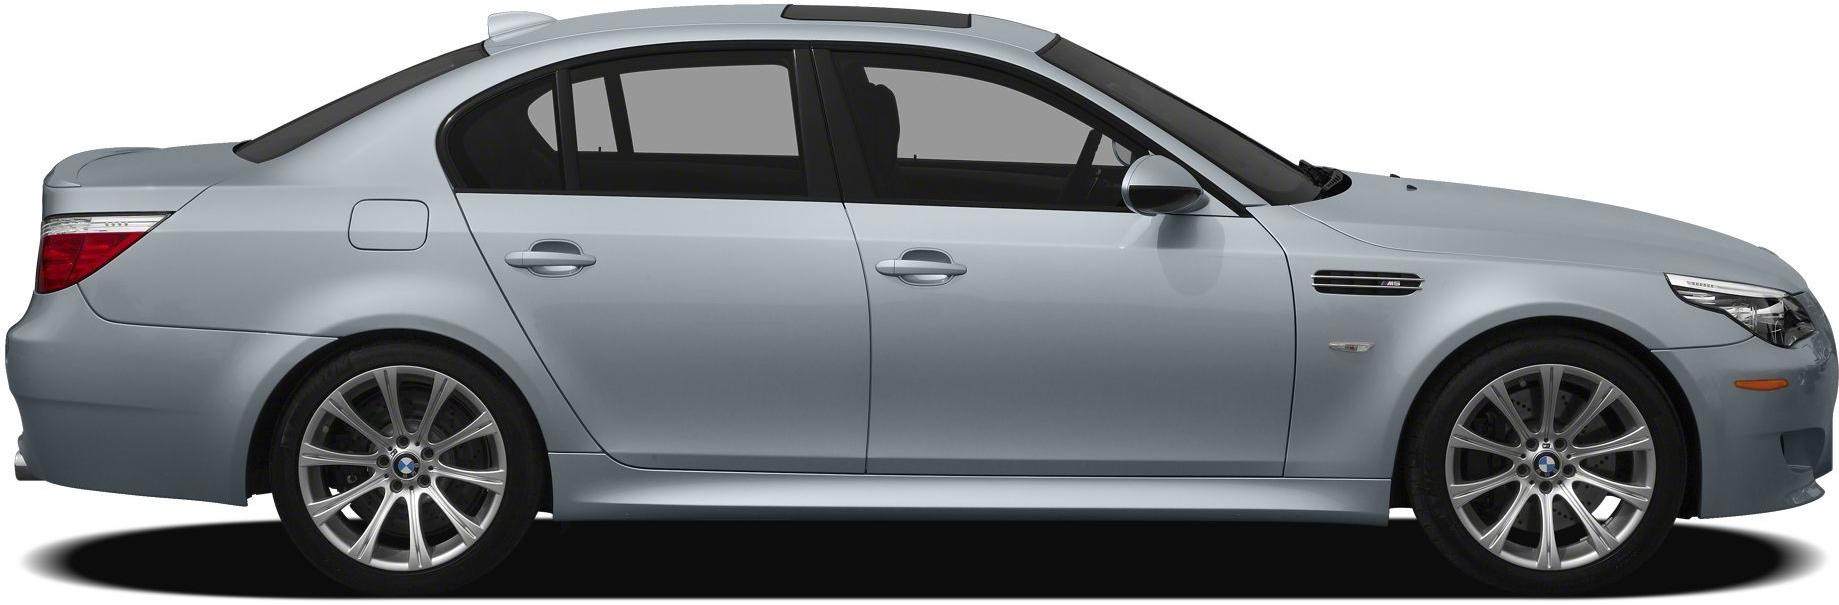backlight: (21, 200, 199, 301)
front_view: (1656, 232, 1839, 533)
headlight: (1651, 252, 1823, 358)
side_glass: (423, 46, 1243, 224)
